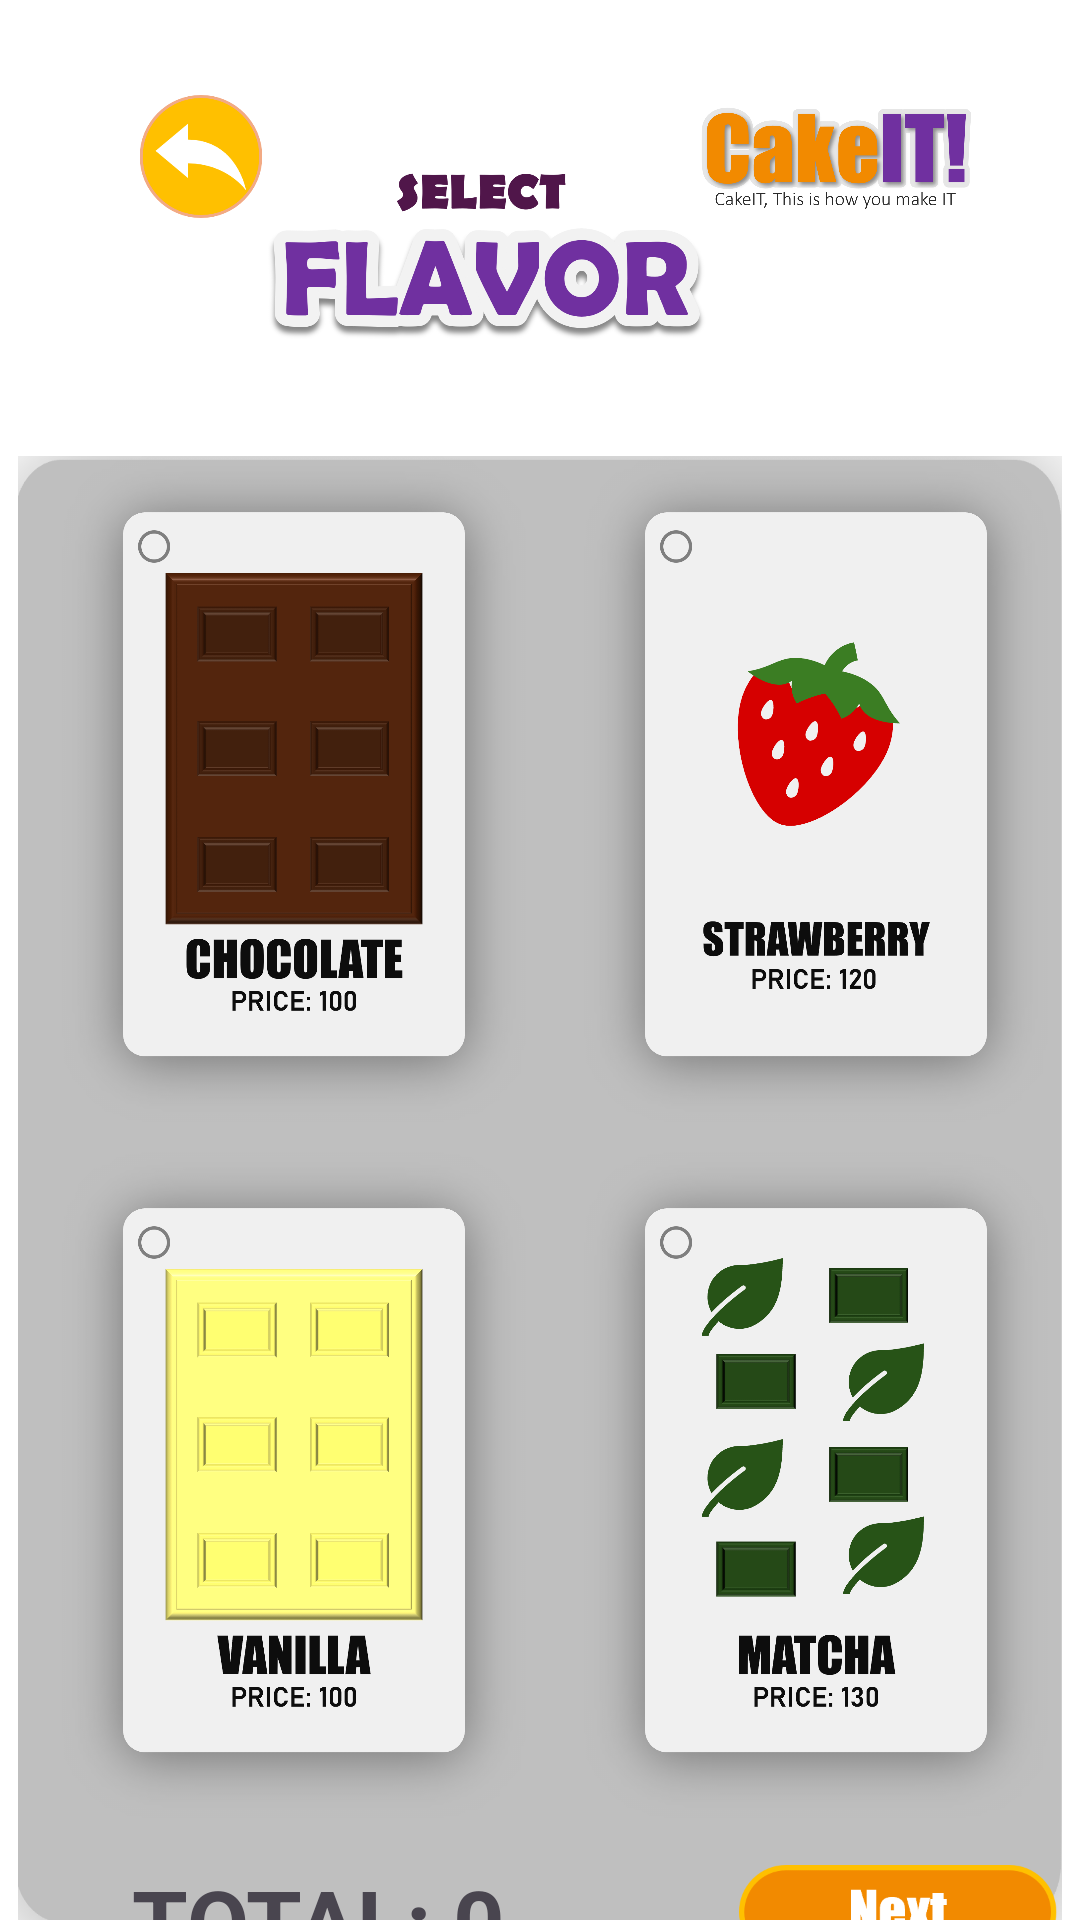

Screen size 1080w x 1920h. Icon name, then its center in pixels as (x=x, y=y):
backicon: (x=201, y=156)
